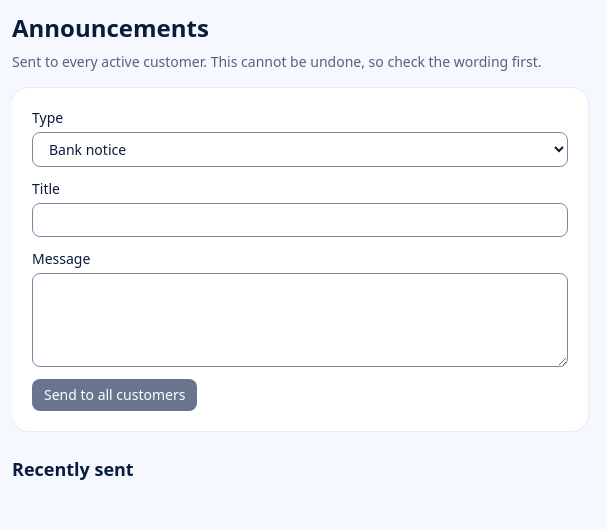
Test: announcements (staff) › sends only after the staff member confirms, with the chosen type
The image size is (606, 529).
Expected: the button "Send to all customers" is disabled, [32,379,198,411]
Select "Offer" in the dropdown labelled "Type" at (300, 150), box [32,132,568,167]
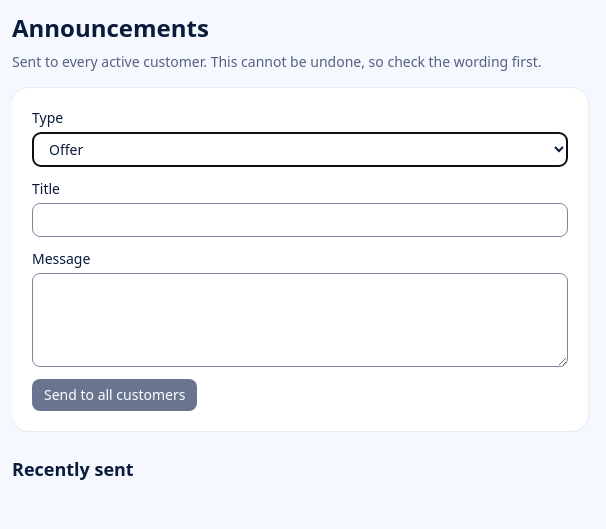
Type "Festive offer" into the field labelled "Title" at (300, 220), box [32,203,568,237]
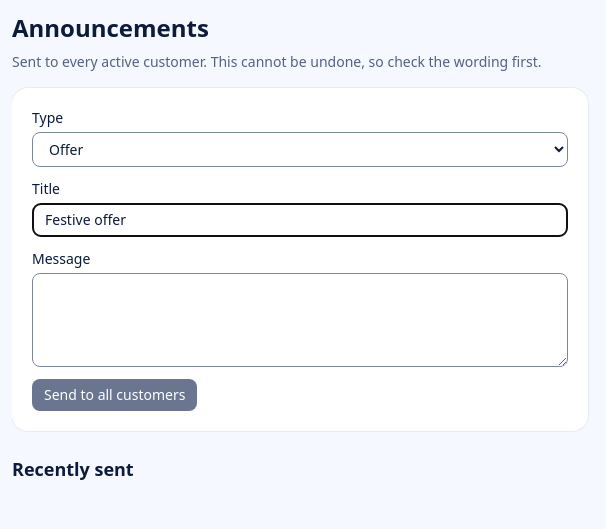
Type "Zero fees this week." into the text box labelled "Message" at (300, 320), box [32,273,568,367]
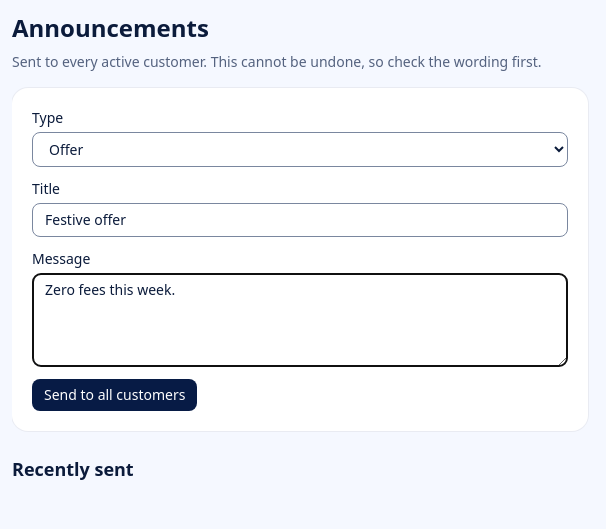
Click the button "Send to all customers" at (115, 395), box [32,379,198,411]
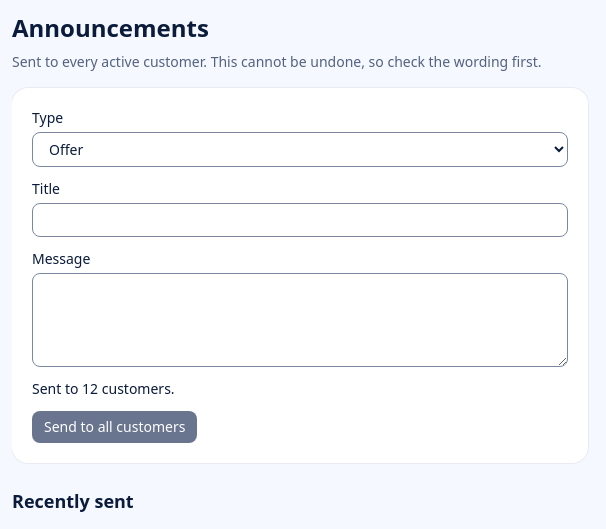
Expected: the message shows "Sent to 12 customers", [32,379,175,398]
